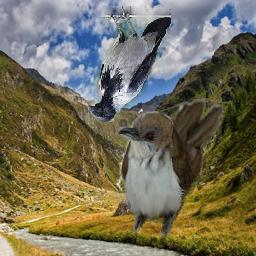Crow: (89, 6, 172, 122)
Cuckoo: (117, 99, 223, 239)
